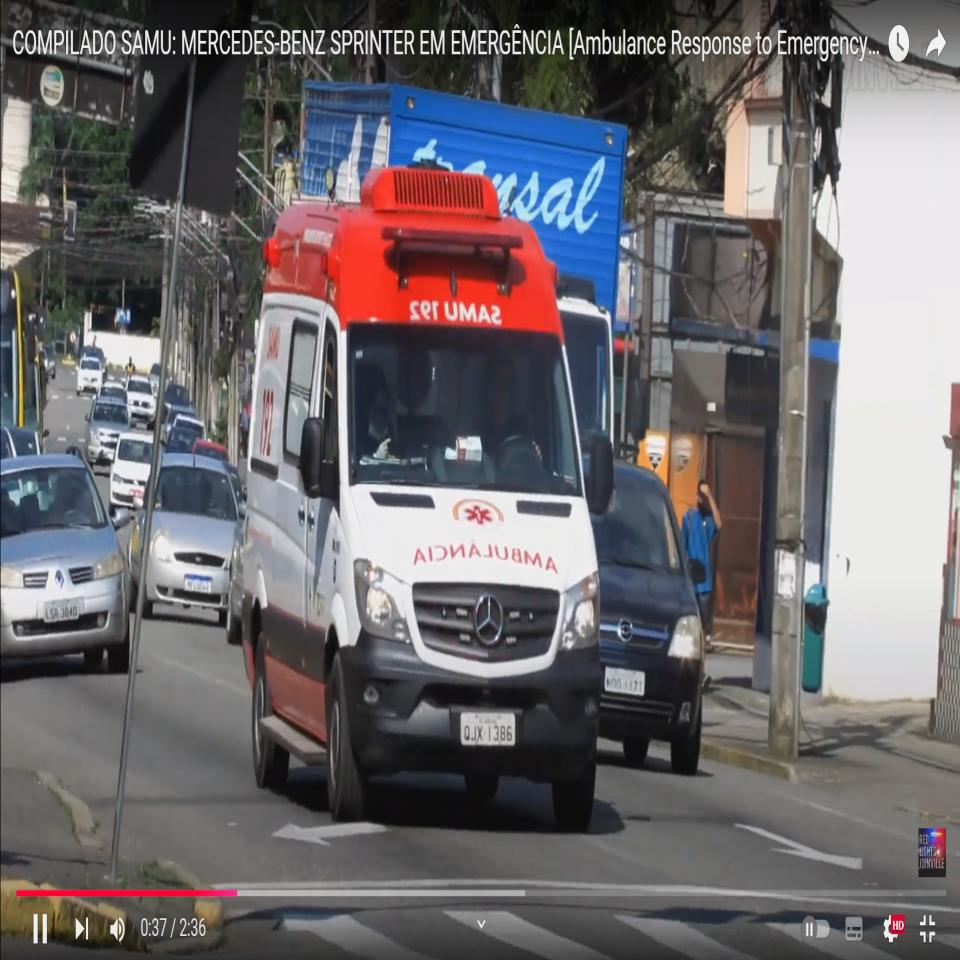bombeiro: (240, 169, 616, 828)
